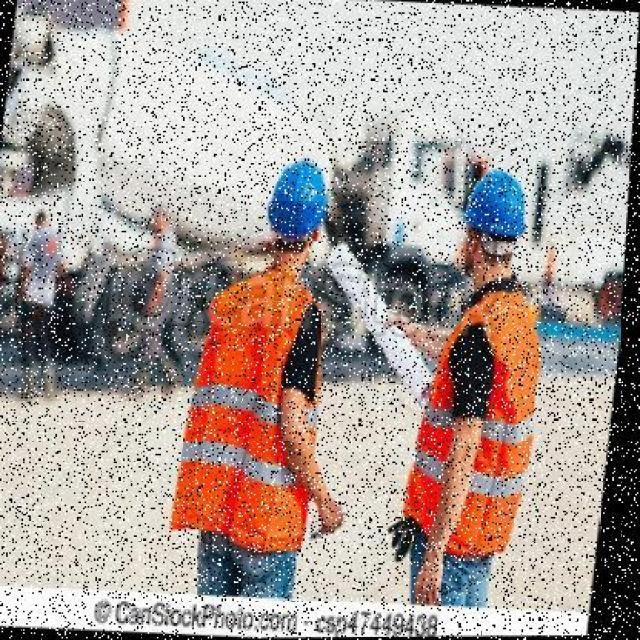helmet: (454, 165, 538, 261), (259, 156, 339, 252)
vest: (174, 257, 342, 539), (400, 266, 558, 556)
